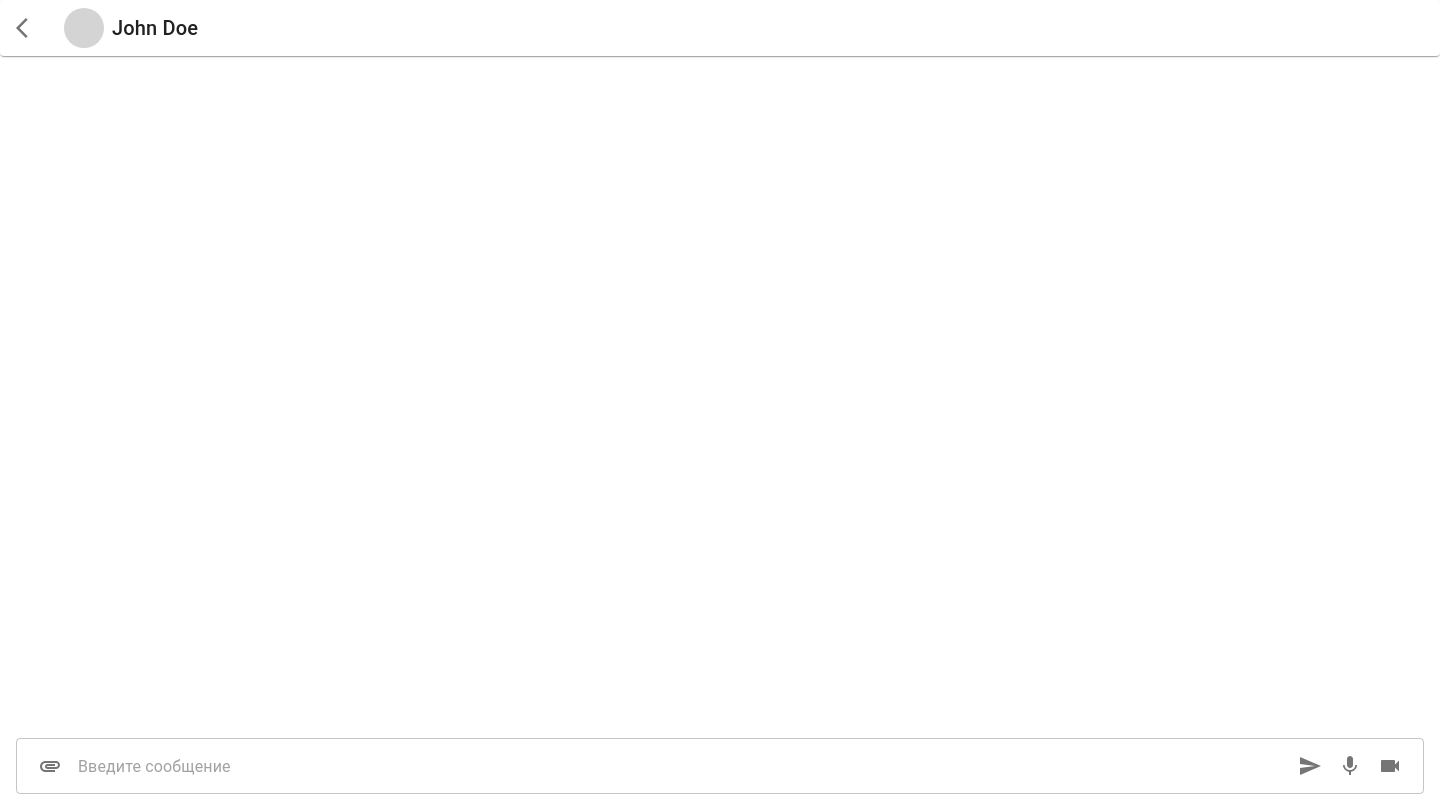
Test: Messages Component › displays the picker modal when the attachment button is clicked
The width and height of the screenshot is (1440, 810).
Click the button with test id "attachment-button": (50, 766) [30, 746, 70, 786]
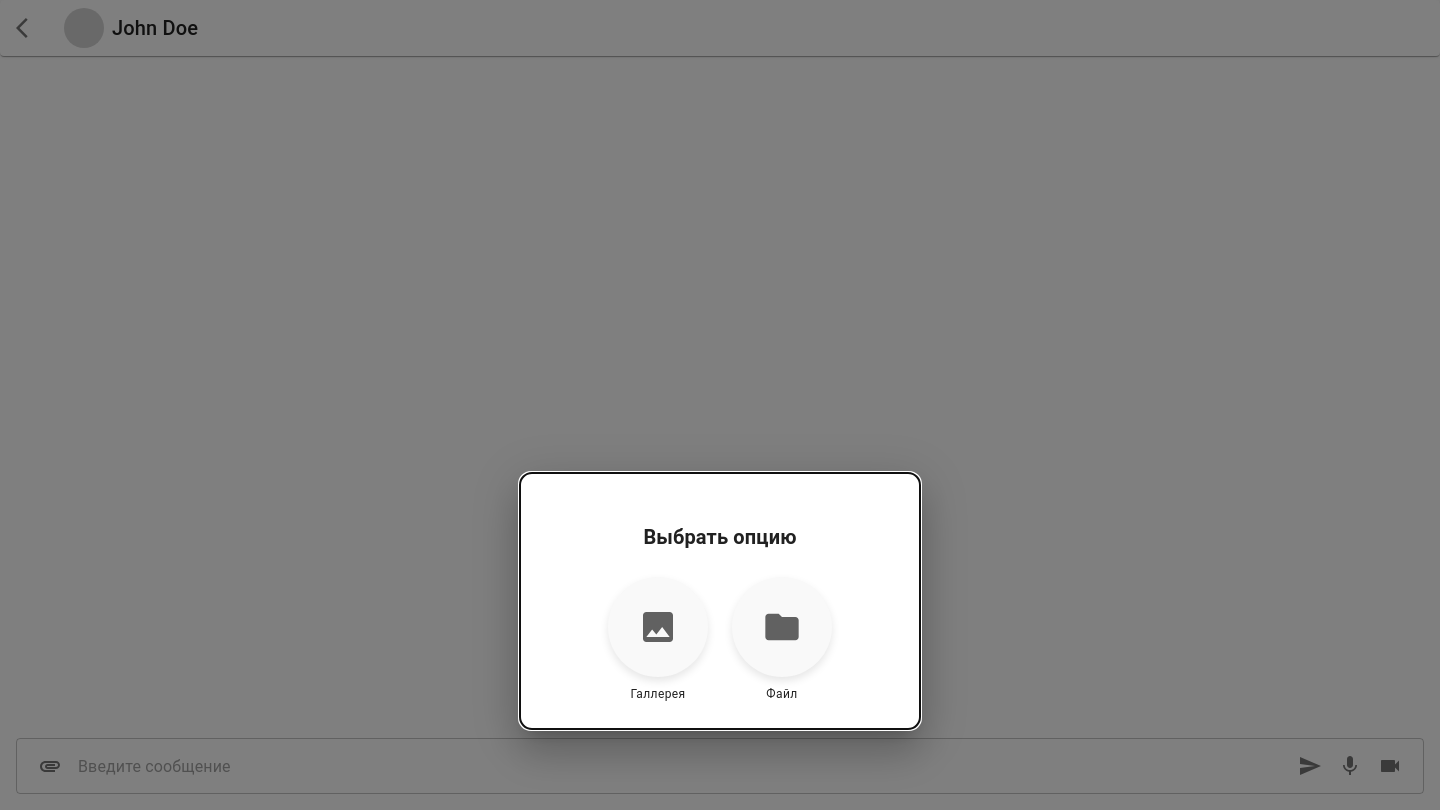
Expected: the heading "Выбрать опцию" is shown, [644, 525, 797, 549]
